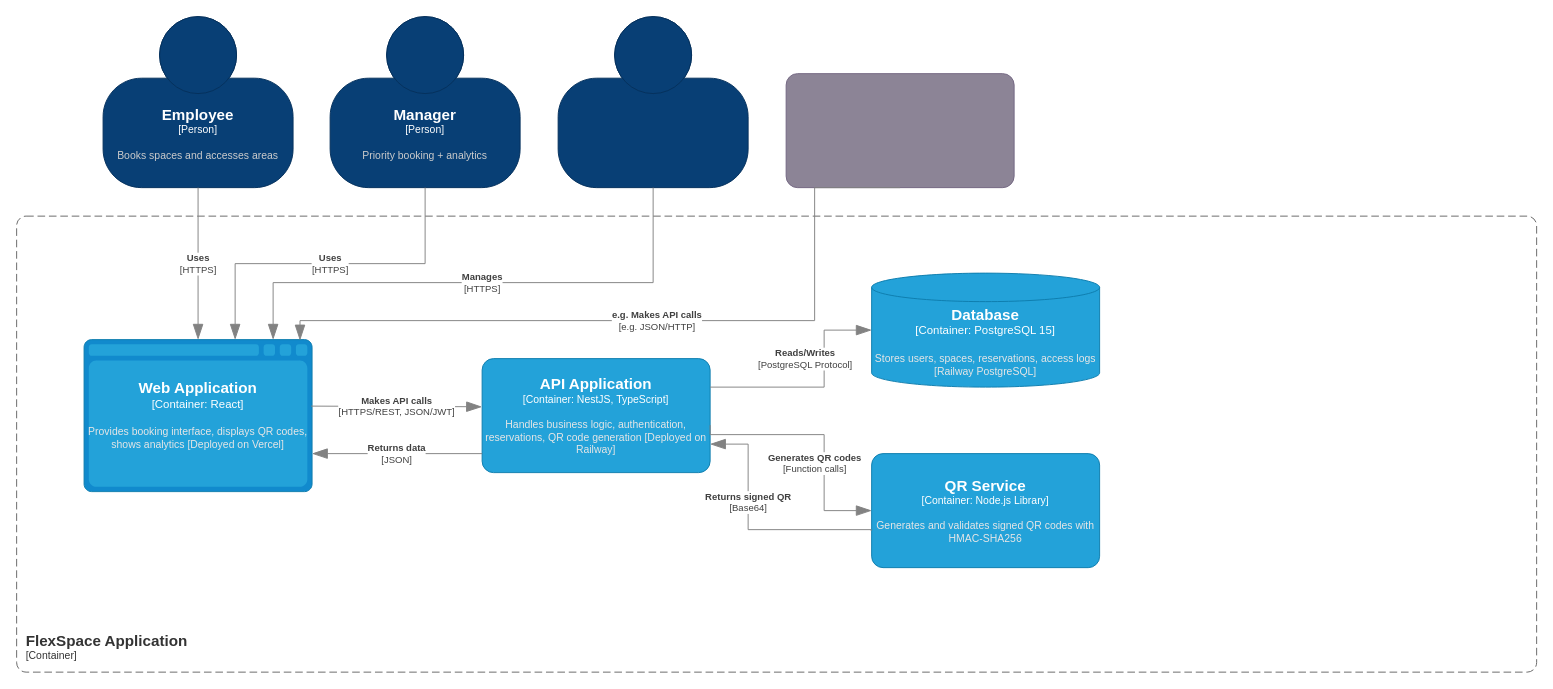
Image size: 1553x689. Some labels were removed from this diagram. The box of each missing label's shape, as (x1, y1, x2, y2) in pixels:
Administrator [Person] System management: (557, 16, 748, 188)
QR Scanner [Software System] Access control device: (785, 73, 1014, 188)
